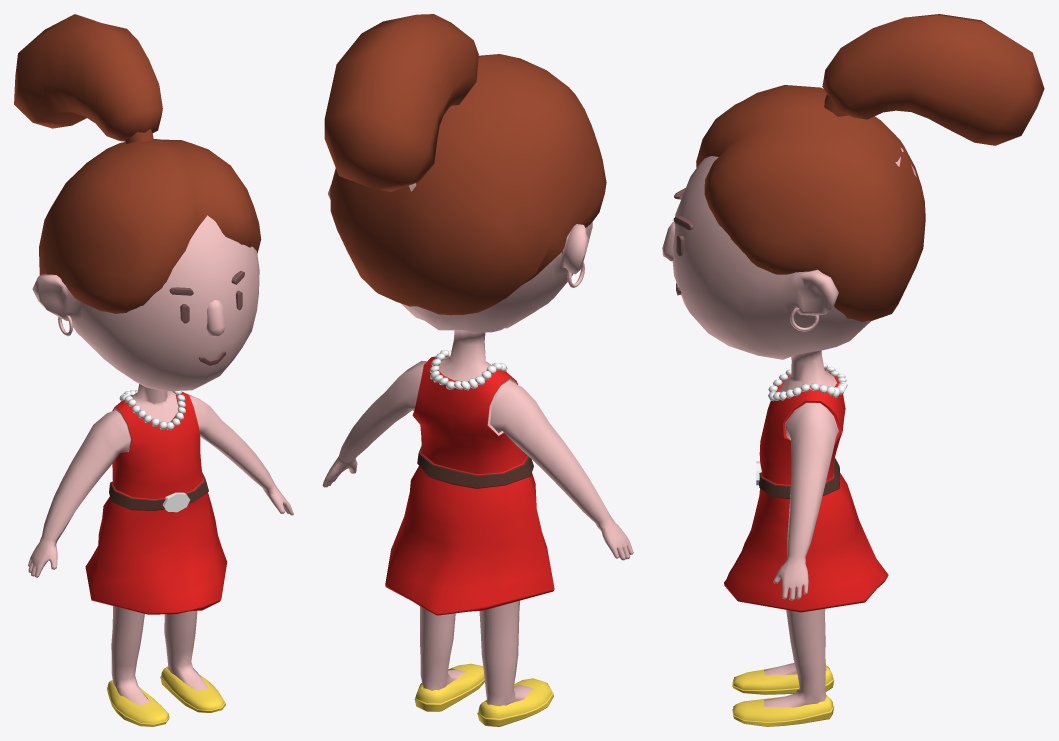
The model's file is character_09.fbx.
3 views of the same model, side by side, from view 1: azimuth 30°, elevation 25°; view 2: azimuth 150°, elevation 25°; view 3: azimuth 270°, elevation 25° (orthographic). The views are drawn at different scales.
Parts seen in each view (by area): view 1: Girl_9; view 2: Girl_9; view 3: Girl_9.
Part boxes in pixels (bbox=[...]): Girl_9: bbox=[14, 14, 293, 726]; Girl_9: bbox=[322, 14, 633, 726]; Girl_9: bbox=[662, 14, 1044, 726].
Bounding box in the file's own units: 2.87 × 6.64 × 3.35.
